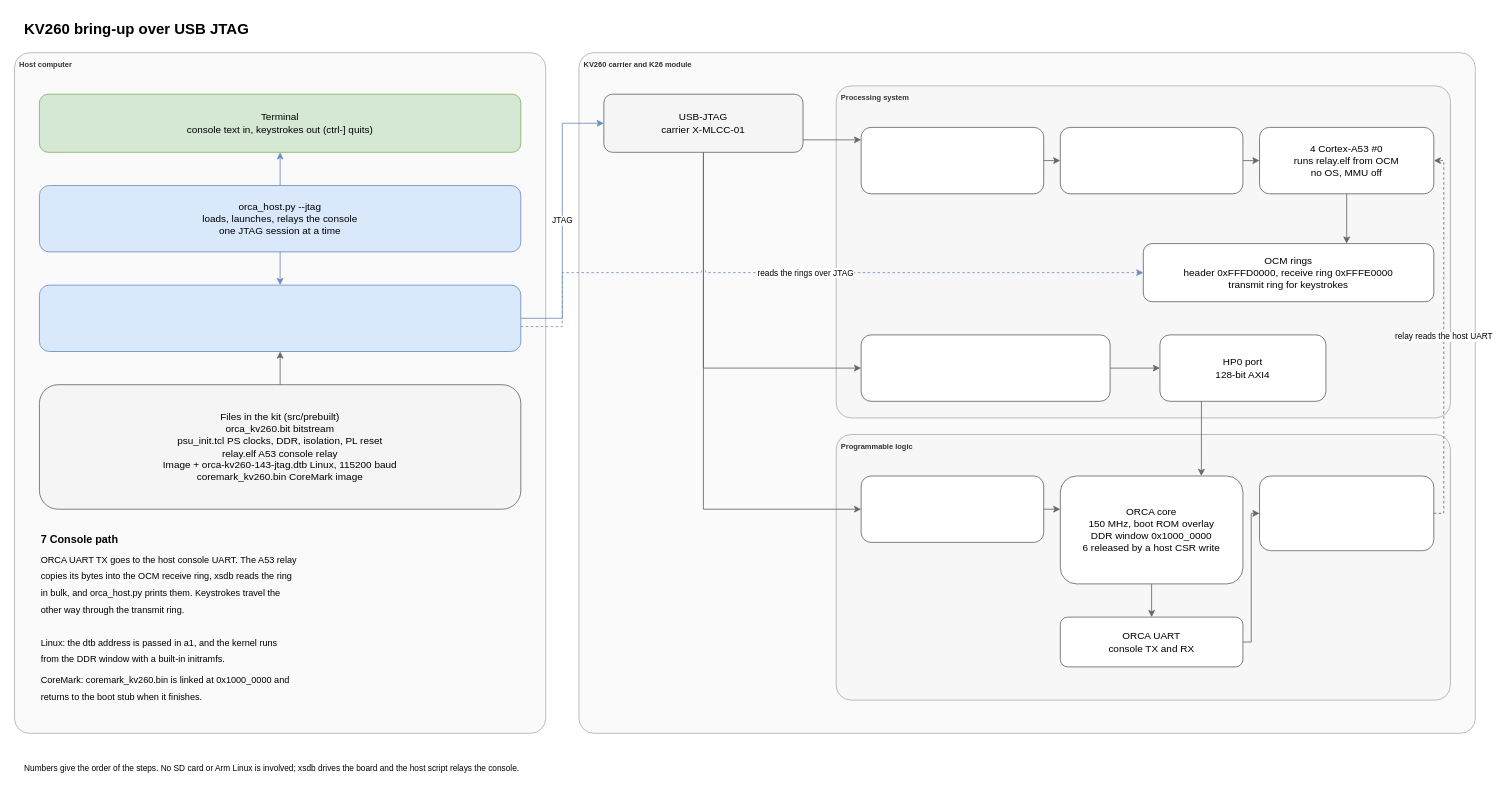
Image size: 1507x792. Some labels were removed from this diagram. Here are the shapes that lost their labels. From the top down, the centre of each, then its label:
At [952,160]: "1 Boot ROM alternate boot mode JTAG 0xFF5E0200 = 0x0100, reset".
At [1151,160]: "2 psu_init PLLs, pl_clk0, DDR, isolation removal, PL reset".
At [280,318]: "xsdb and kv260_jtag.tcl Vivado xsdb (xsct is disabled in 2026.1)".
At [985,367]: "PS DDR 0x7000_0000, 256 MiB reserved (no-map) 5 Image and dtb written by JTAG".
At [952,508]: "3 Bitstream orca_kv260.bit loaded by xsdb".
At [1346,513]: "Host aperture 0xA400_0000, 128 KiB SoC CSRs, host console UART".
